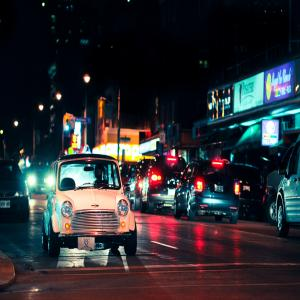Vehicle-registration-plate: (78, 237, 97, 253), (1, 201, 11, 209), (216, 186, 224, 192)
